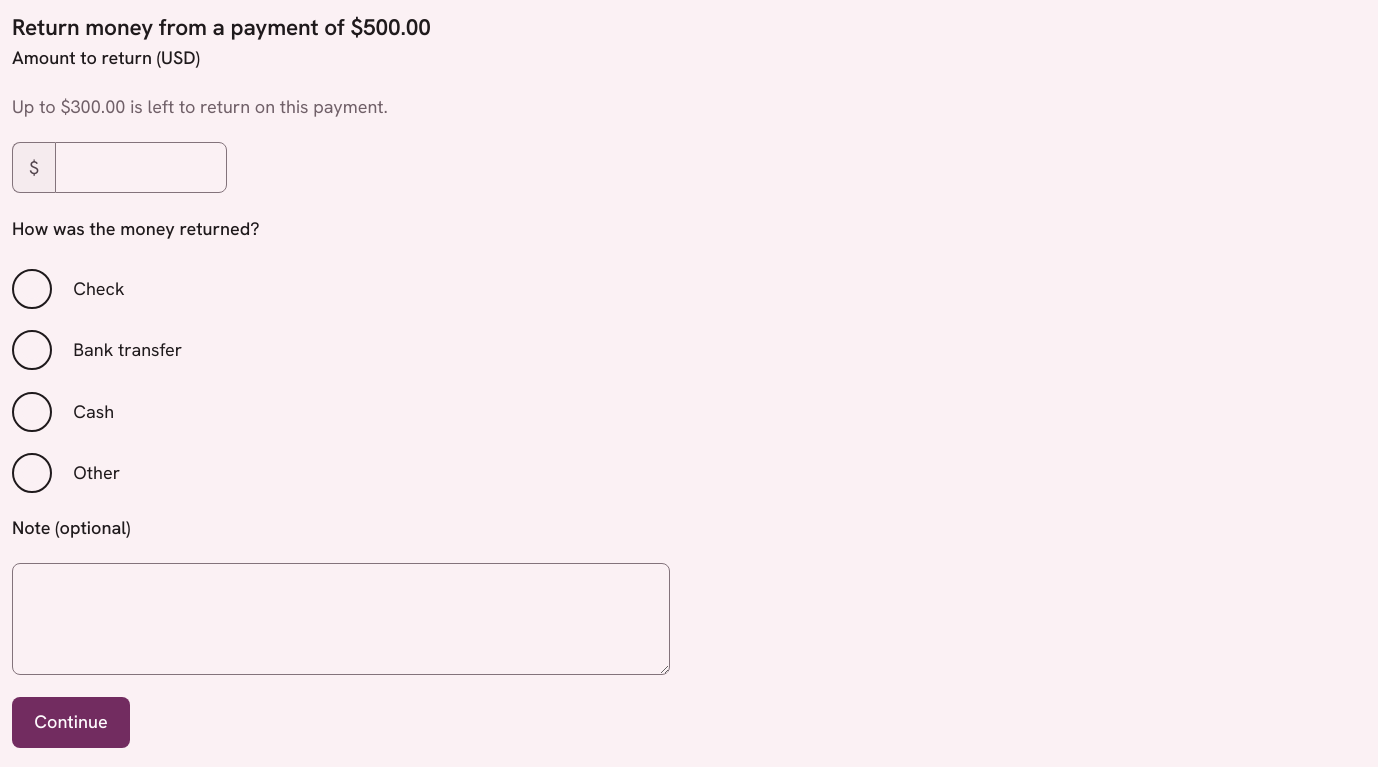
Test: RefundPaymentForm › a Payment recorded by hand › refuses Continue with no method chosen, names the question, and does not reach the review step
Type "10" into the number field labelled "Amount to return (USD)". click: (141, 168)
box: [55,142,227,193]
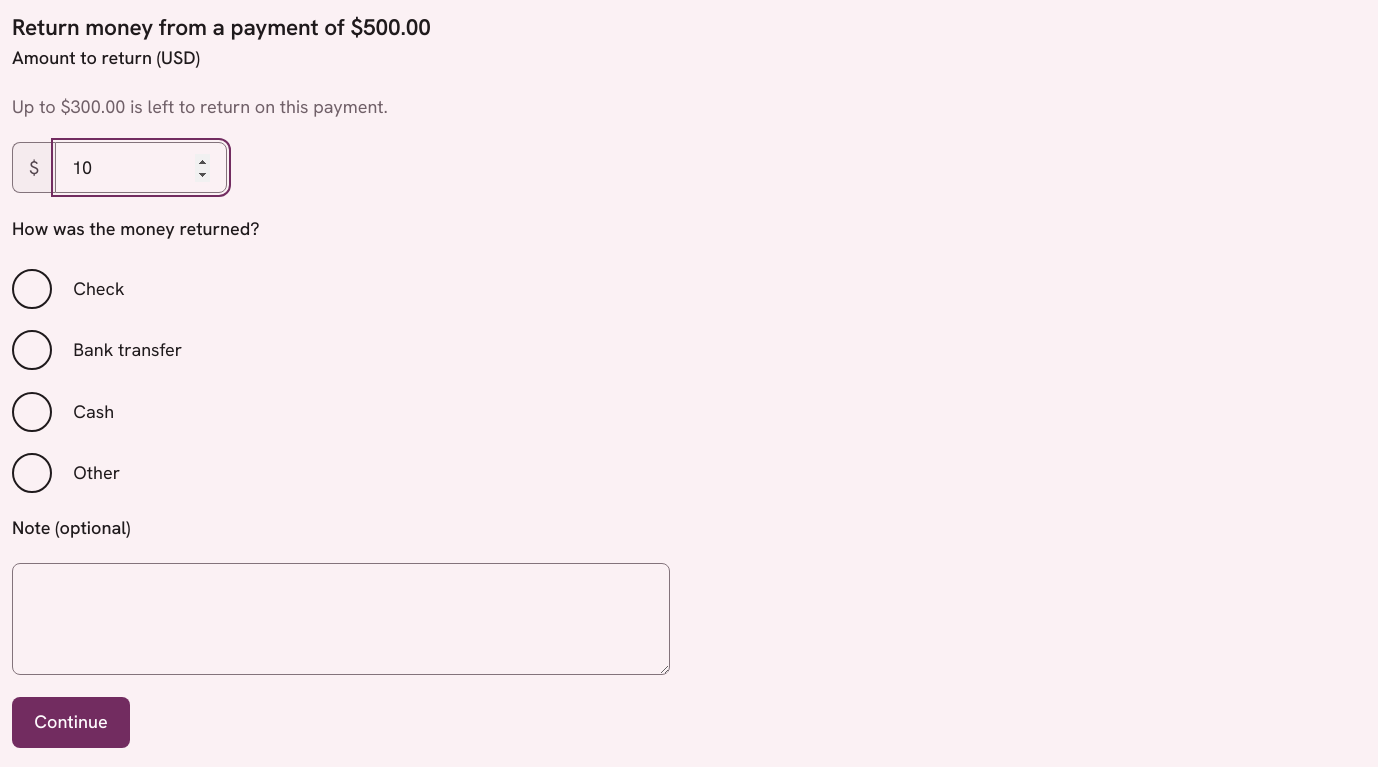
Click the button "Continue". click: (71, 722)
box: [12,697,130,748]
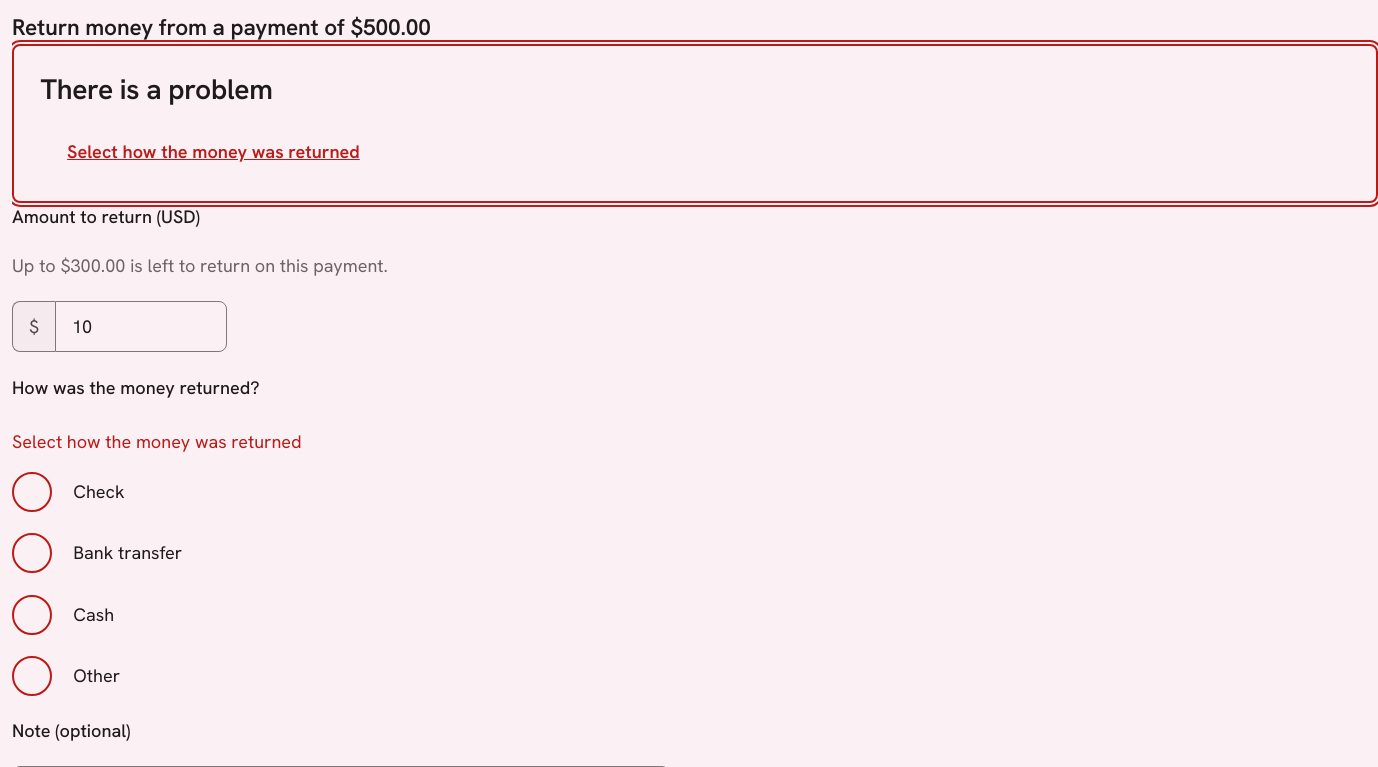
Now the heading "There is a problem" is shown, box [40,71,273,108]
